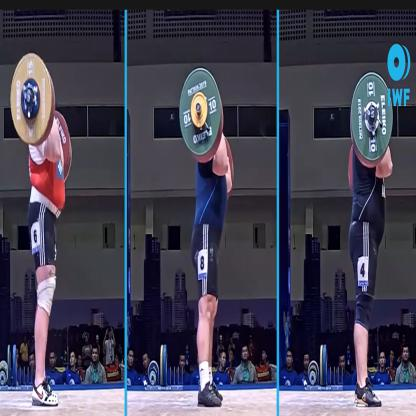Barbell: (5, 40, 60, 166), (176, 58, 228, 165), (343, 69, 397, 162)
